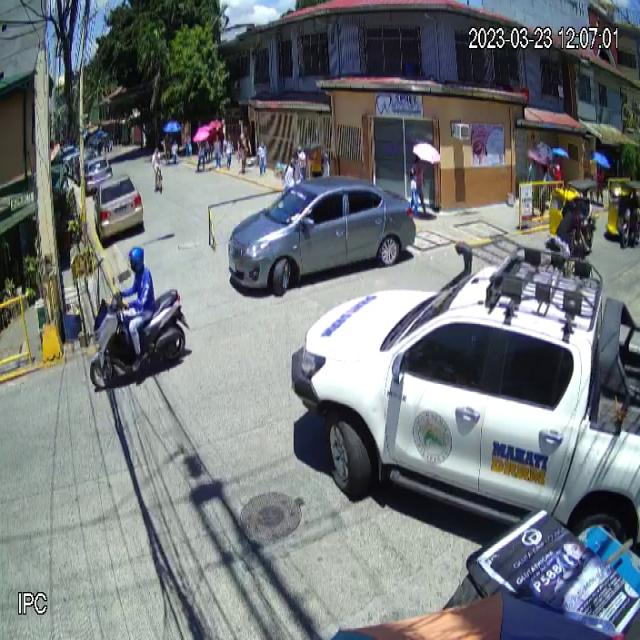Car: (291, 239, 640, 549), (226, 174, 418, 298)
Motorcycle: (86, 274, 189, 391)
